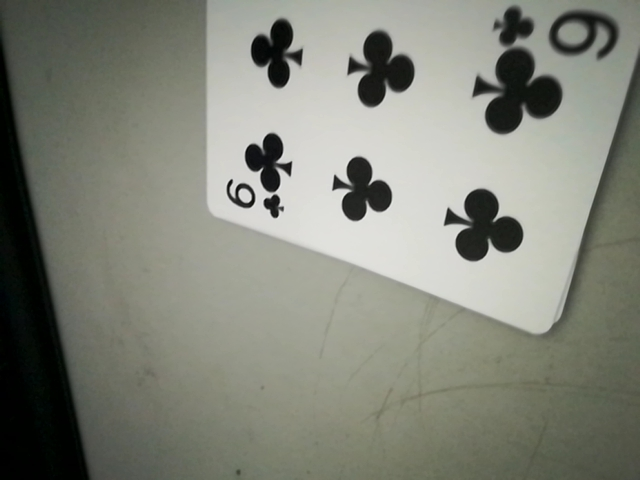mh 6: (493, 2, 626, 56), (216, 177, 285, 225)
